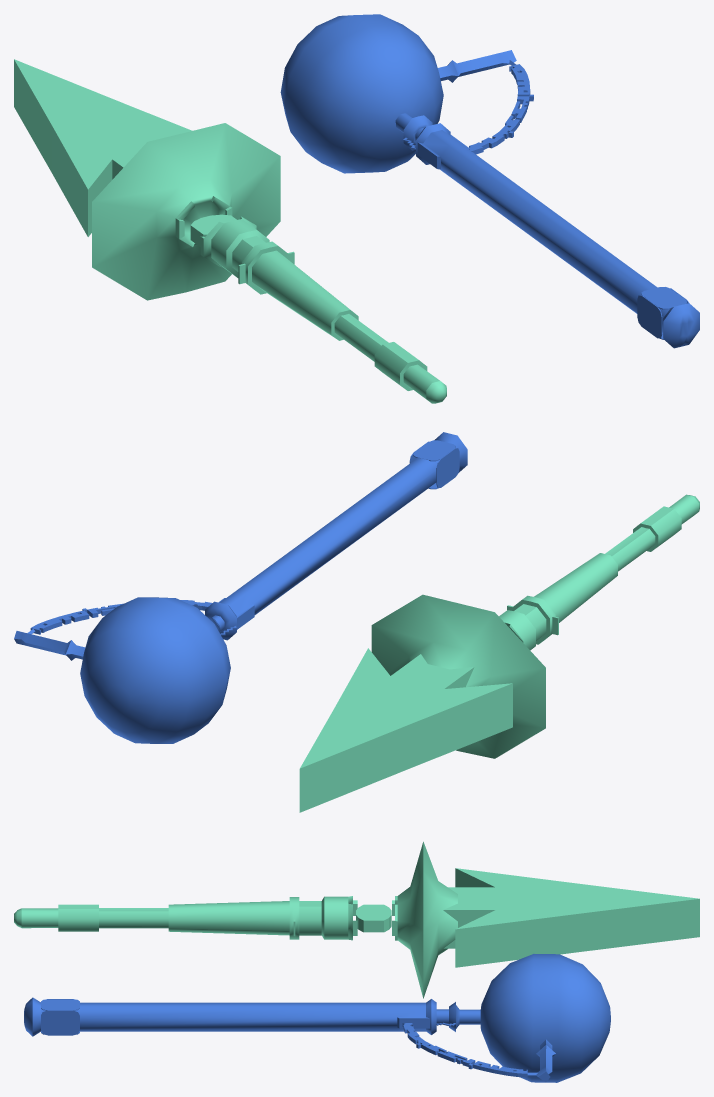
File: PUCK_Weapon3.fbx
3 renders of one model, top to bottom at view 1: azimuth 30°, elevation 25°; view 2: azimuth 150°, elevation 25°; view 3: azimuth 270°, elevation 25°, orthographic. The views are drawn at different scales.
Visible parts, largest first — view 1: lightning_Spear, water_Cane; view 2: lightning_Spear, water_Cane; view 3: lightning_Spear, water_Cane.
Part boxes in pixels (<box>): lightning_Spear: <box>14,59,446,403</box>; water_Cane: <box>280,14,699,348</box>; lightning_Spear: <box>299,494,699,812</box>; water_Cane: <box>14,432,467,743</box>; lightning_Spear: <box>14,841,699,998</box>; water_Cane: <box>24,954,610,1082</box>.
Bounding box in the file's own units: 107 × 32.89 × 159.
